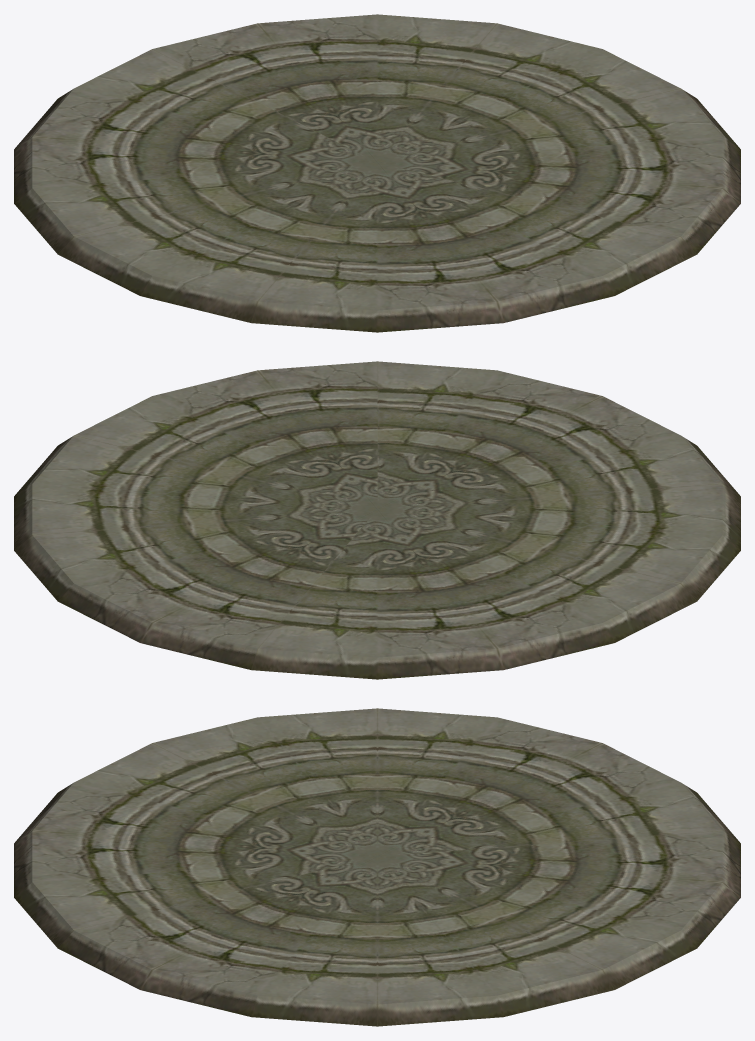
File: s_battle_01_floor_01.FBX
3 views of the same model, one above another, from view 1: azimuth 30°, elevation 25°; view 2: azimuth 150°, elevation 25°; view 3: azimuth 270°, elevation 25° (orthographic).
Visible parts, largest first — view 1: 3333; view 2: 3333; view 3: 3333.
Boxes of the visible parts, x1=… form: 3333: x1=14, y1=14, x2=740, y2=332; 3333: x1=14, y1=361, x2=740, y2=679; 3333: x1=14, y1=708, x2=740, y2=1026.
Bounding box in the file's own units: 13.29 × 0.2796 × 13.09.
1 material, 1 textured.
